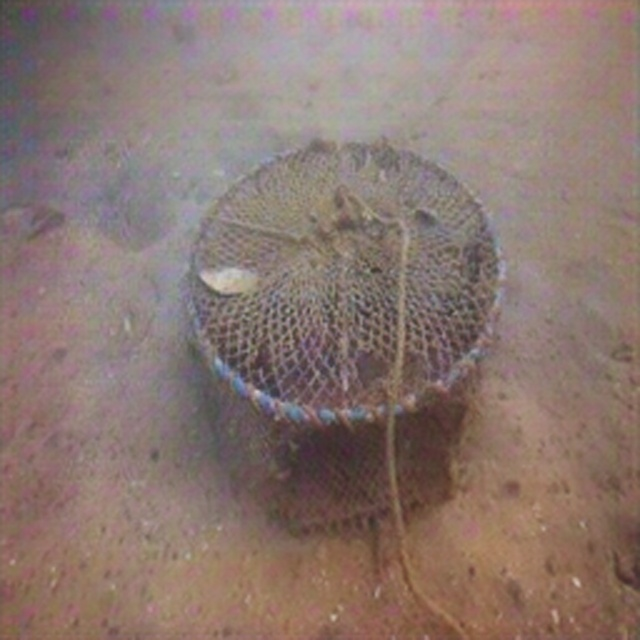mine: (182, 138, 508, 538)
